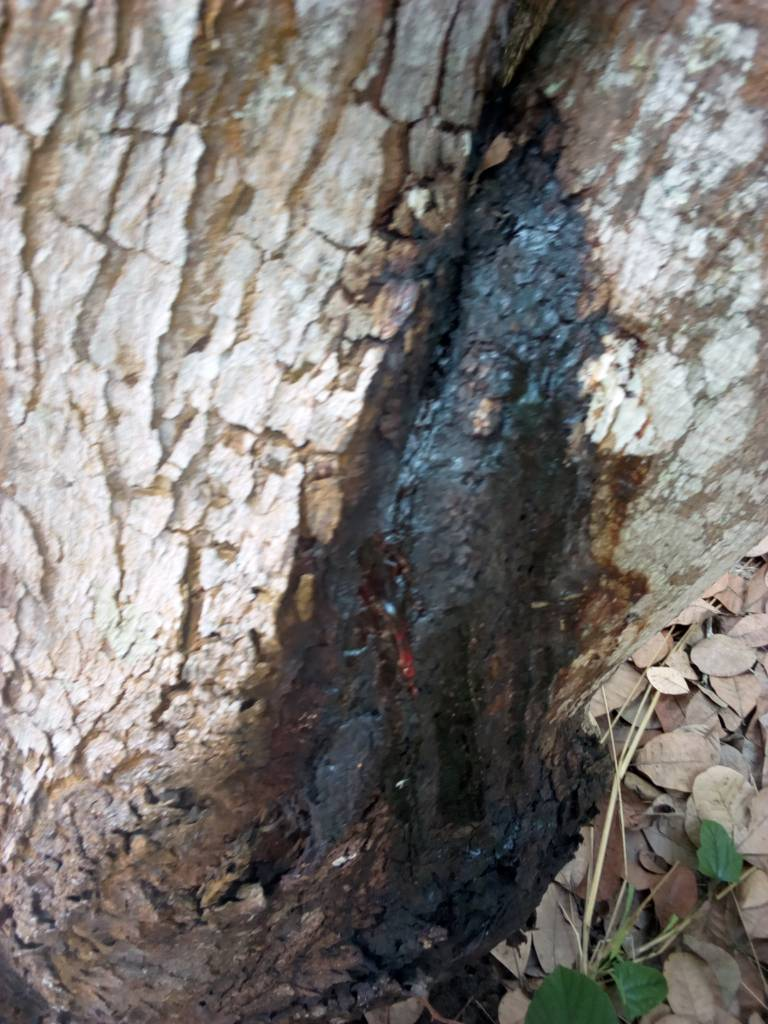Mecocorynus longiceps: (218, 230, 655, 885)
